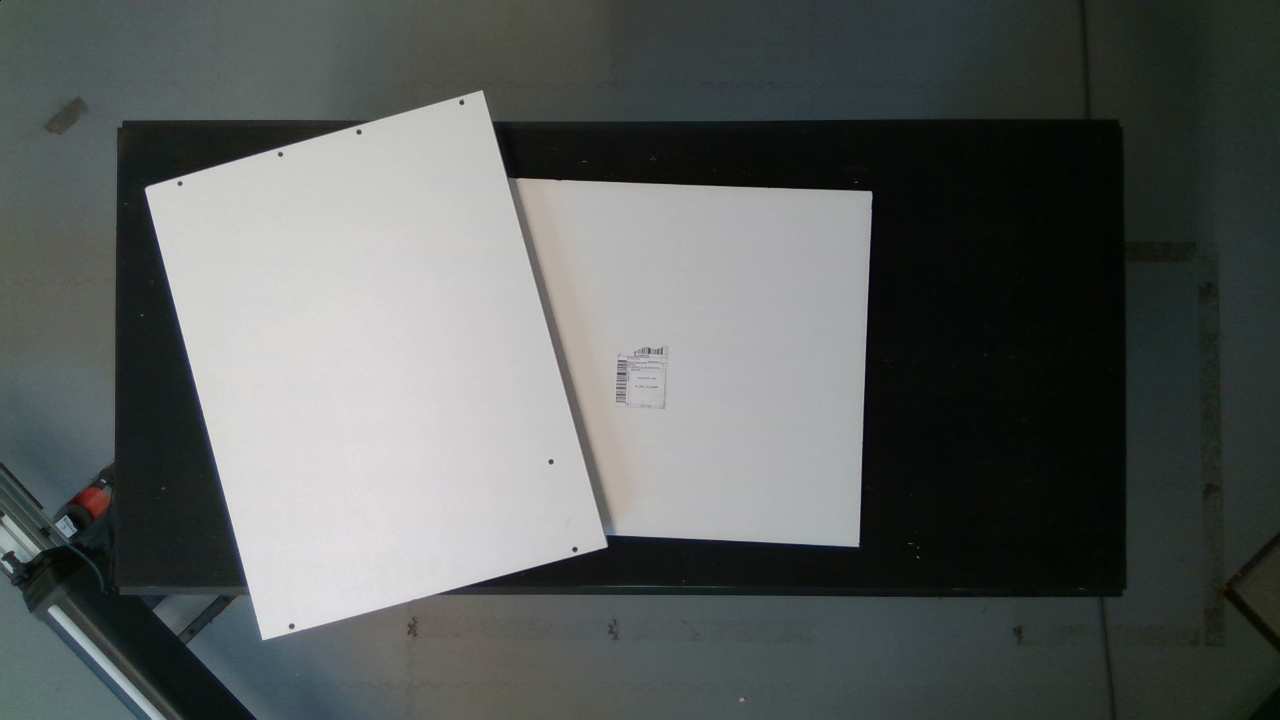barcode: (602, 333, 690, 421)
part2: (140, 87, 623, 644), (495, 160, 905, 567)
